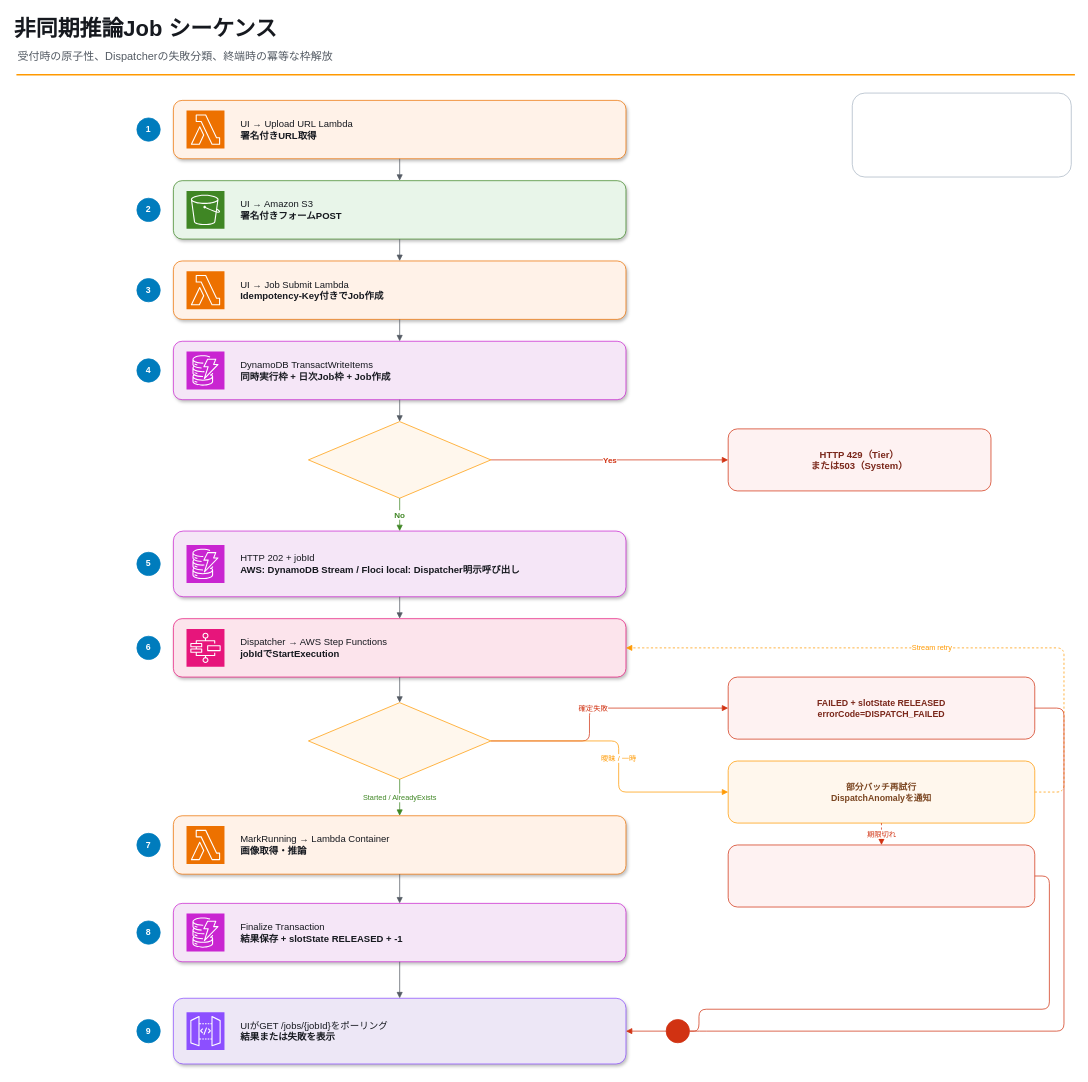
The diagram is 1088 pixels wide and 1082 high, and some of its shapes have lost their labels. The shapes that lost their labels are listed below. From the top down, each one's centre as x and y in pixels, then its label:
At point (961, 134): "主要経路 : 実線 再試行 : 破線 終端失敗 : 赤 回復待ち : 黄".
At point (399, 459): "上限到達？".
At point (399, 740): "起動結果".
At point (881, 875): "Reaper（最後の安全網） 期限切れをTIMED_OUT + 枠解放".
